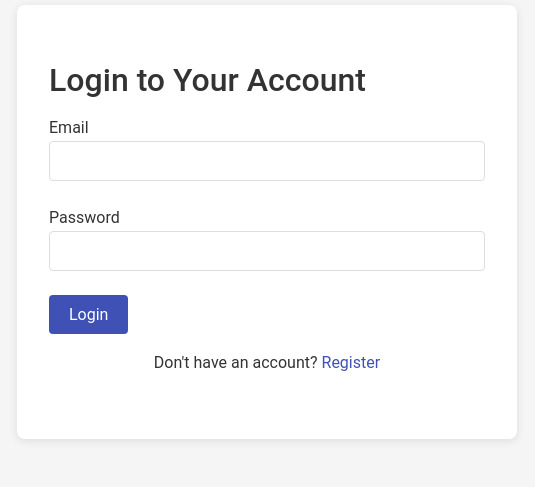
Test: Login Component › validates email format
The image size is (535, 487).
Type "invalid-email" into the field labelled "Email". click: x=267, y=161
box: [49, 141, 485, 181]
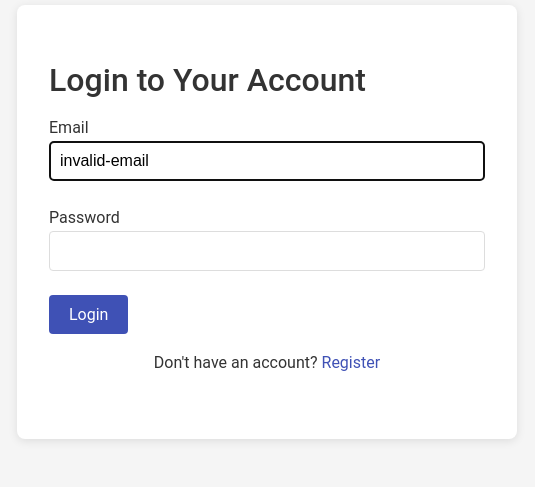
Click the button "Login". click: x=89, y=314
box: [49, 295, 128, 334]
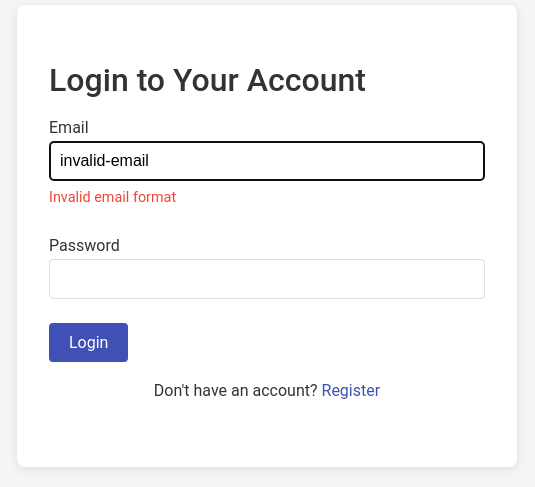
Now the text "Invalid email format" is shown, box [49, 189, 176, 206]
